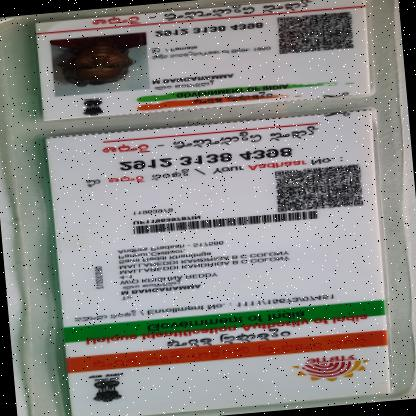aadhaar_card: (25, 0, 415, 415)
